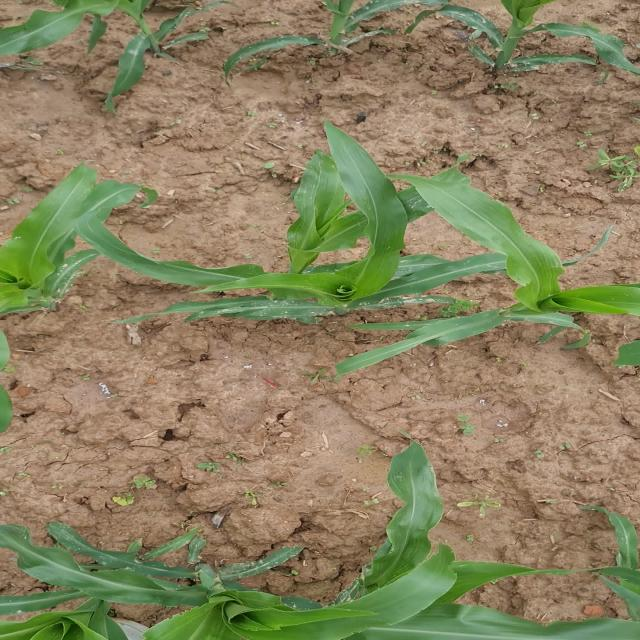maize: (0, 156, 640, 388), (0, 445, 640, 640), (0, 4, 640, 128)
weed: (558, 140, 640, 233)
